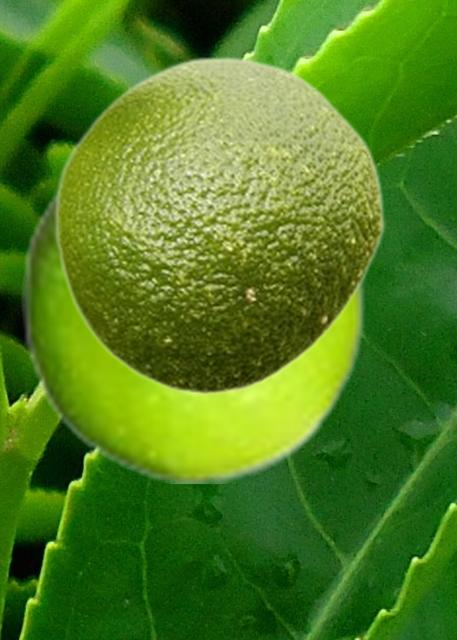calamansi: (53, 55, 384, 396), (21, 177, 366, 482)
